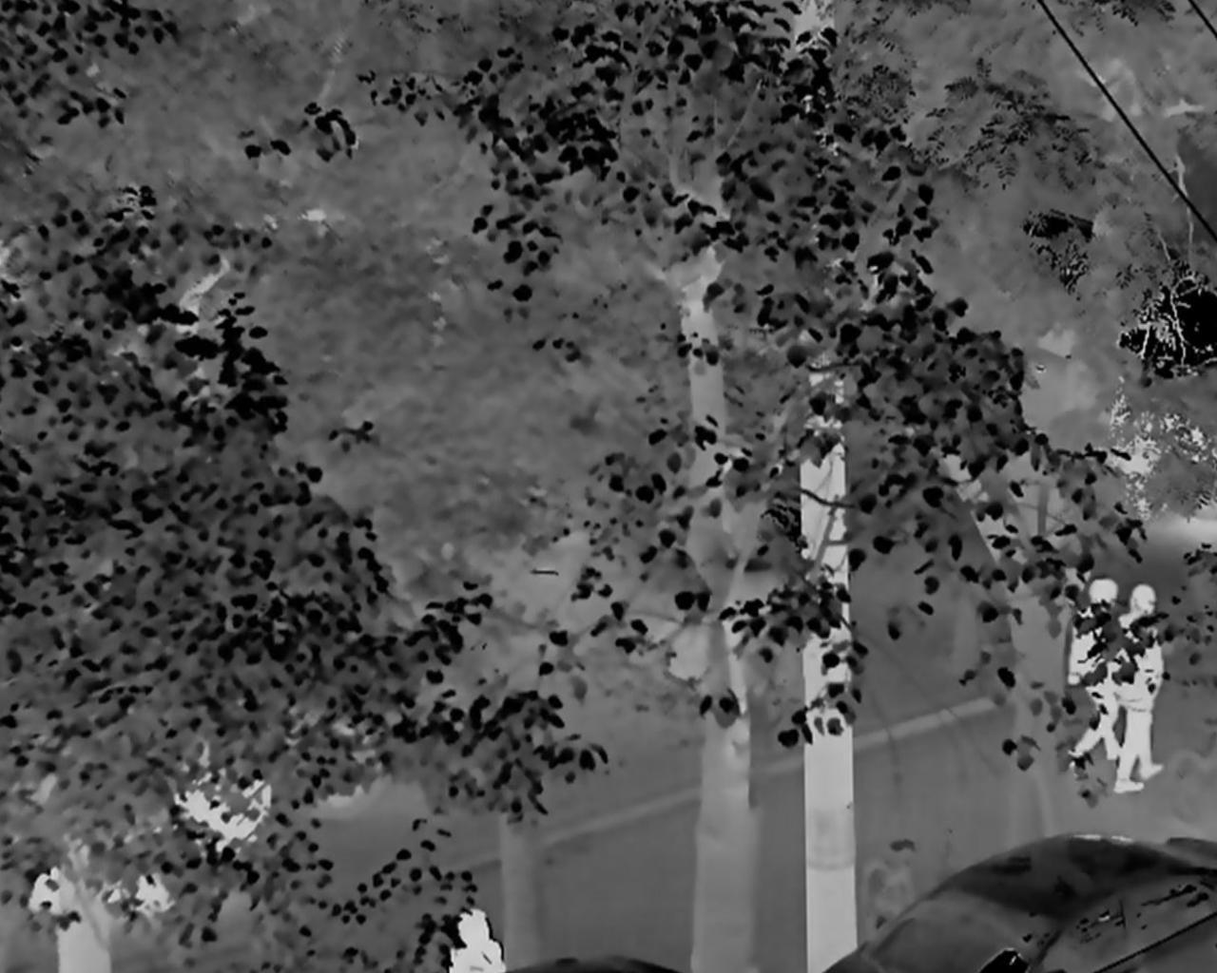person: (1114, 582, 1167, 801), (1068, 576, 1119, 758)
